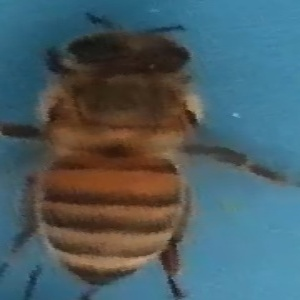bee: (3, 13, 290, 296)
